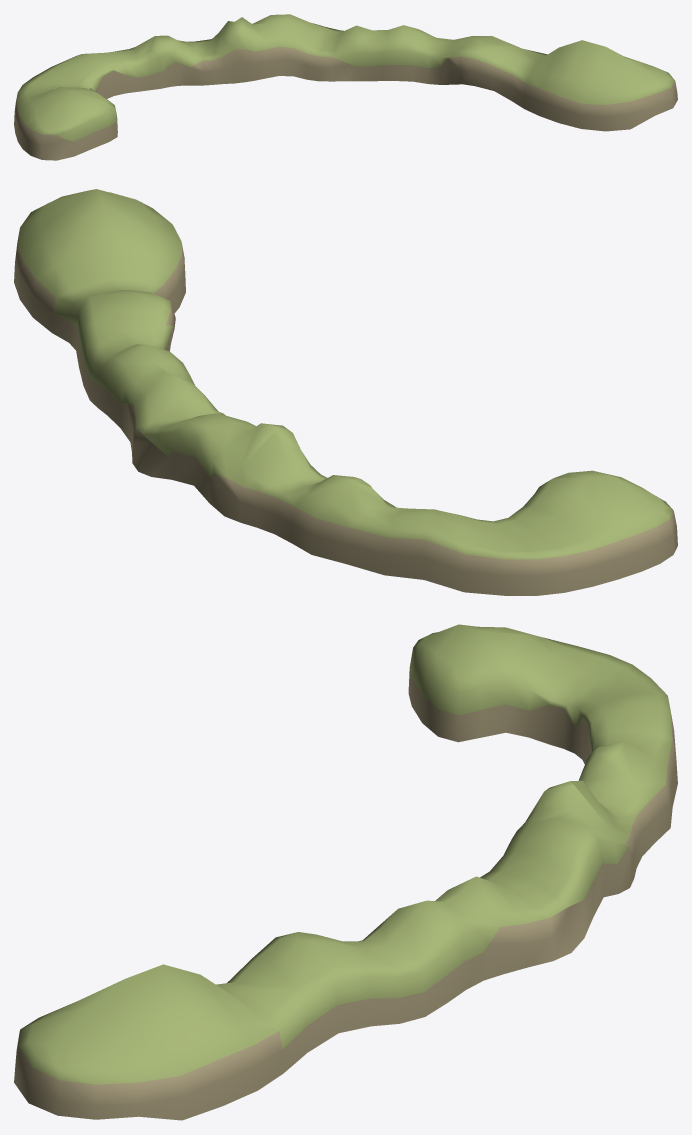
The model's file is Bridge_Land_2.fbx.
3 views of the same model, one above another, from view 1: azimuth 30°, elevation 25°; view 2: azimuth 150°, elevation 25°; view 3: azimuth 270°, elevation 25° (orthographic). The views are drawn at different scales.
Visible parts, largest first — view 1: Bridge_Land2; view 2: Bridge_Land2; view 3: Bridge_Land2.
Part boxes in pixels (x1,y1,x2,y2): Bridge_Land2: (14, 14, 677, 160); Bridge_Land2: (14, 189, 677, 595); Bridge_Land2: (14, 624, 677, 1120).
Size of the model in its own units: 247 by 27.1 by 149.
